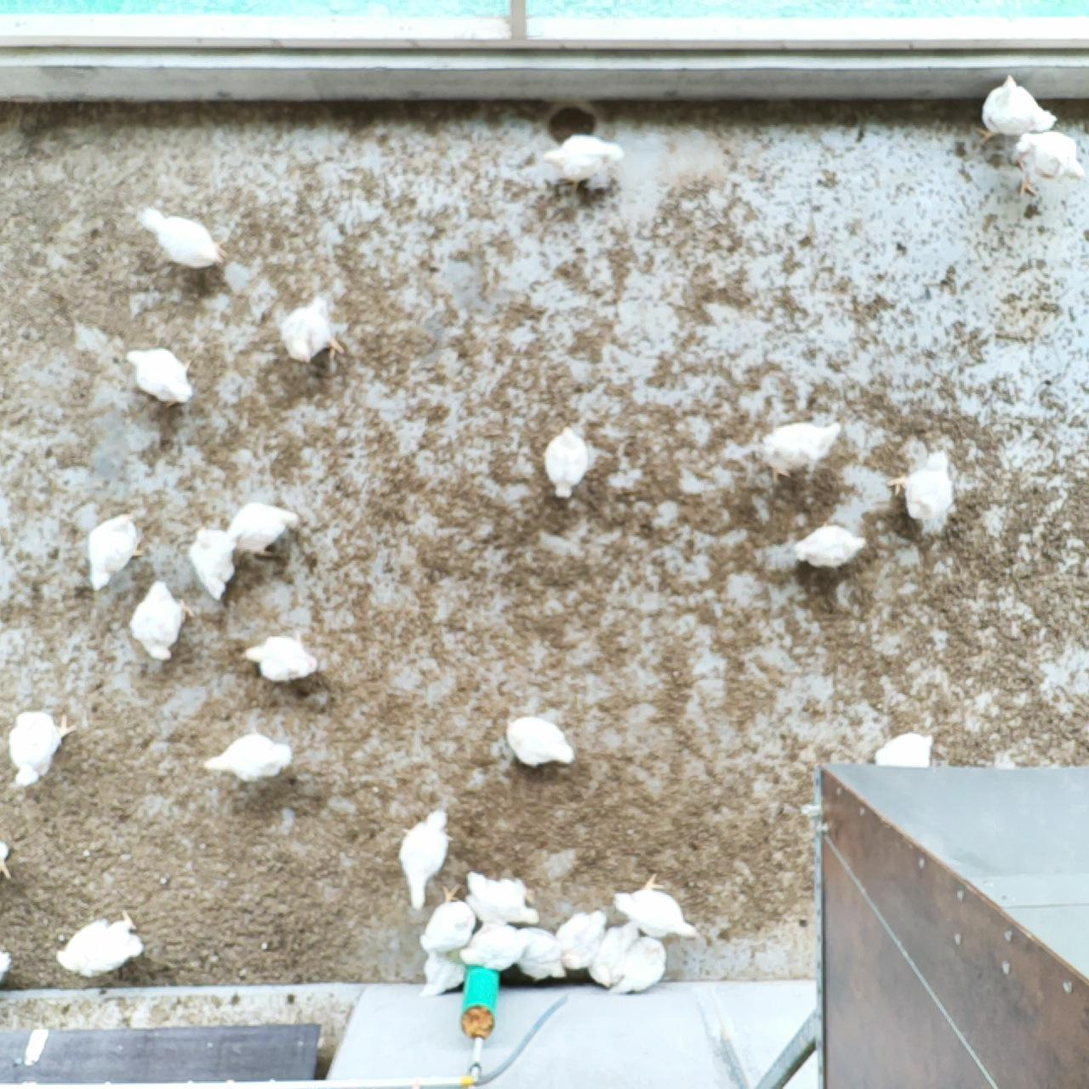chicken: (48, 904, 148, 982), (968, 72, 1062, 148), (4, 704, 82, 795), (609, 870, 703, 945), (133, 202, 231, 272), (127, 575, 198, 669), (751, 416, 845, 487), (396, 805, 457, 914), (886, 446, 965, 526), (541, 128, 626, 200), (200, 730, 300, 791), (278, 289, 352, 371), (1005, 127, 1087, 199), (83, 508, 147, 597), (124, 342, 200, 413), (235, 627, 324, 686), (462, 867, 542, 930), (227, 500, 304, 562), (416, 882, 478, 957), (502, 712, 577, 772), (790, 519, 868, 572), (186, 522, 235, 604), (542, 422, 592, 502), (458, 921, 534, 973), (585, 919, 641, 989), (609, 936, 671, 999), (510, 922, 570, 984), (553, 908, 610, 972), (874, 727, 940, 773), (416, 947, 466, 1002)
